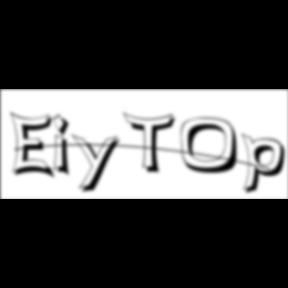E: (10, 110, 60, 182)
O: (180, 117, 246, 176)
T: (123, 112, 181, 176)
i: (53, 112, 77, 180)
y: (72, 132, 126, 196)
